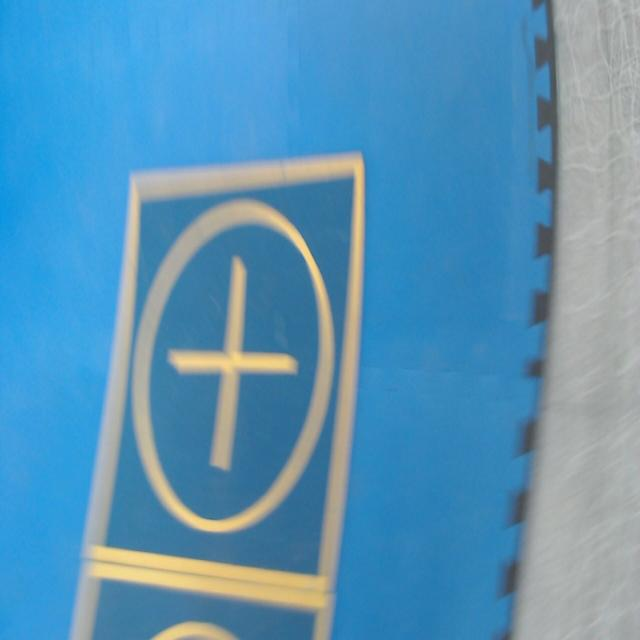base_pouso: (83, 154, 364, 596), (69, 560, 337, 639)
